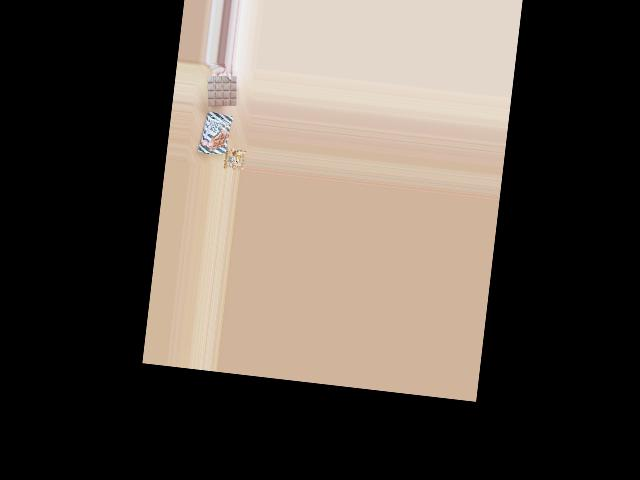chocolate: (198, 109, 232, 157)
